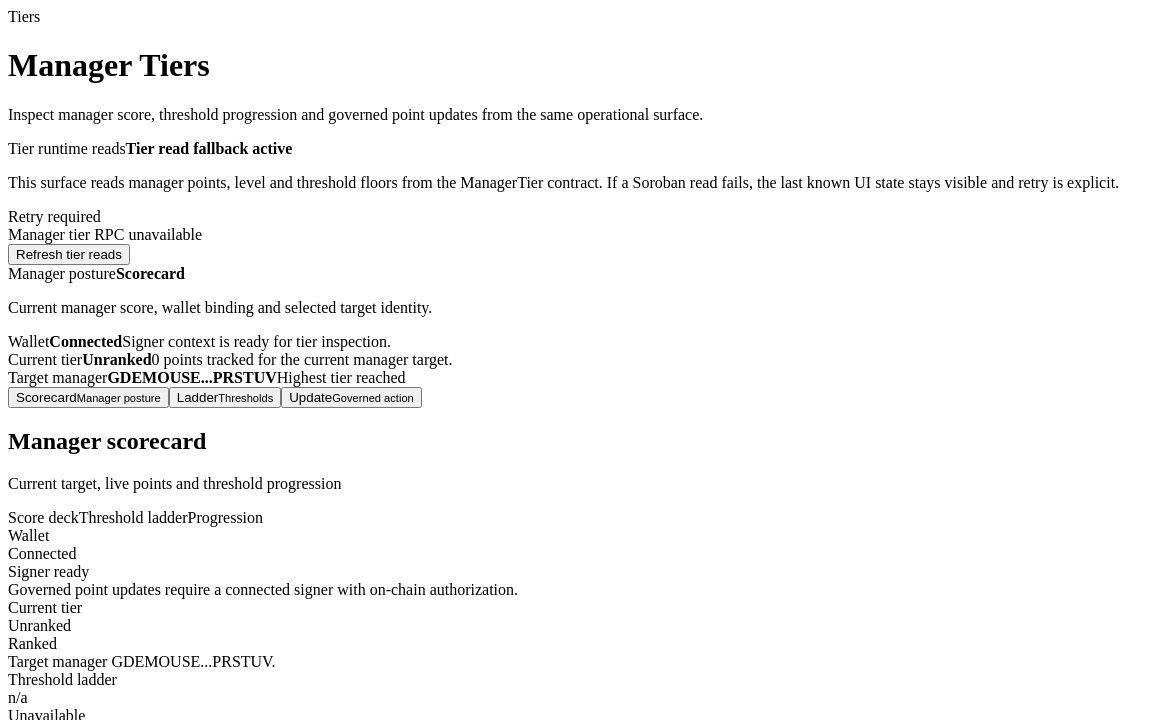
Test: live ops surfaces › keeps manager tiers readable and retryable when Soroban tier reads degrade
Expected: the text with test id "tiers-read-error" reads "Manager tier RPC unavailable", [8,226,202,243]
Expected: the element with test id "tiers-runtime-read-posture" shows "Tier read fallback active", [126,140,292,157]
Click the button with test id "tiers-refresh-button". click: (69, 254)
box: [8,244,130,265]
(page scrolled)
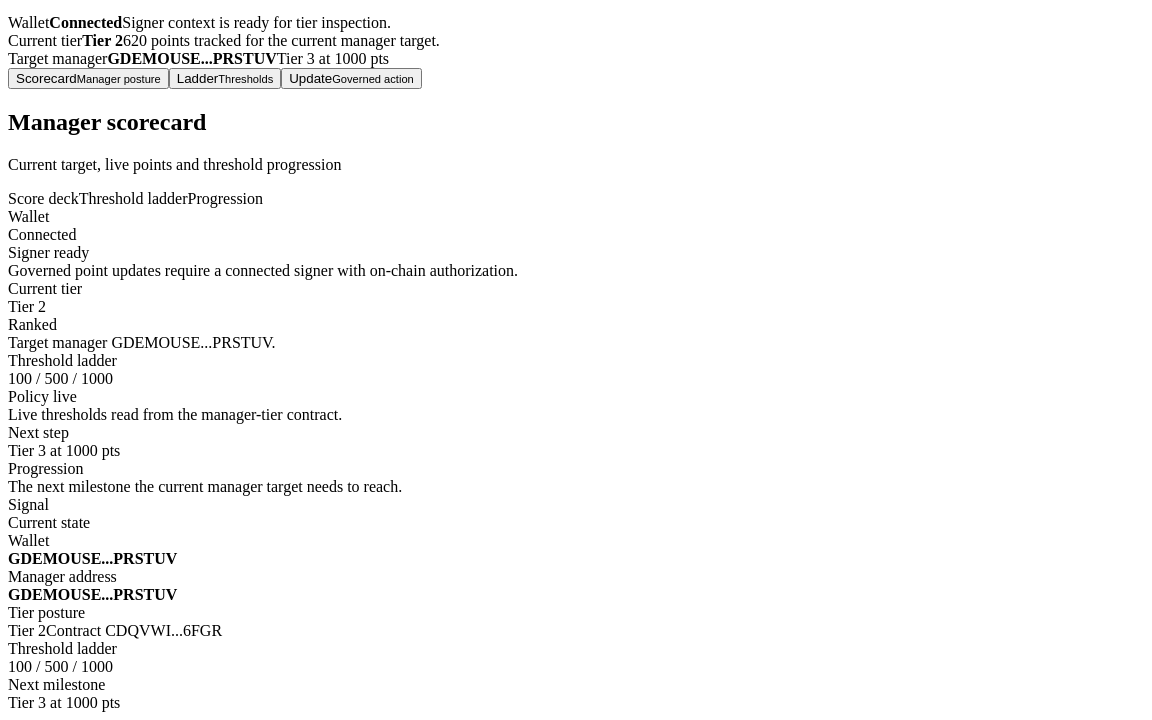
Expected: the text with test id "tiers-read-error" is gone
Expected: the element with test id "tiers-scorecard-table" shows "Tier 2", [8,622,46,639]
